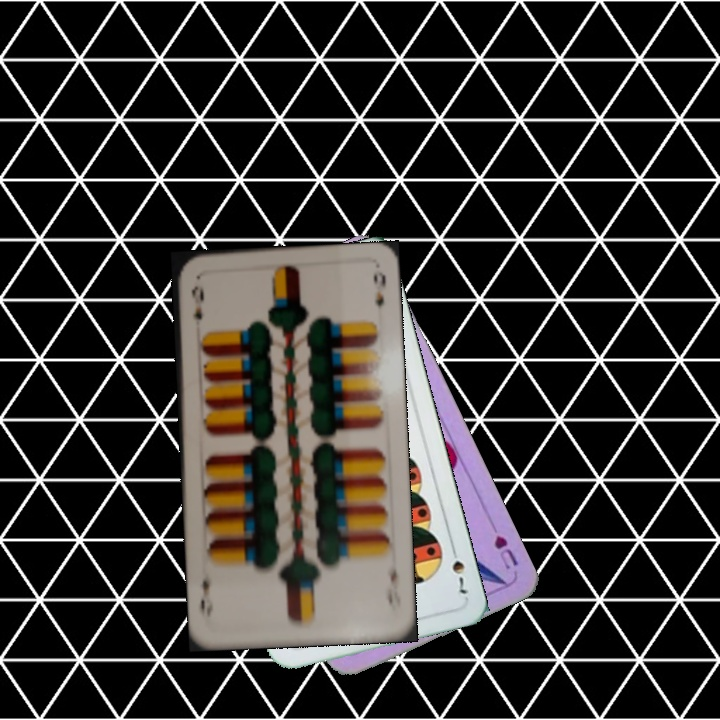E9: (383, 556, 403, 614), (187, 281, 207, 322)
HU: (490, 531, 521, 573)
S7: (447, 541, 473, 597)
